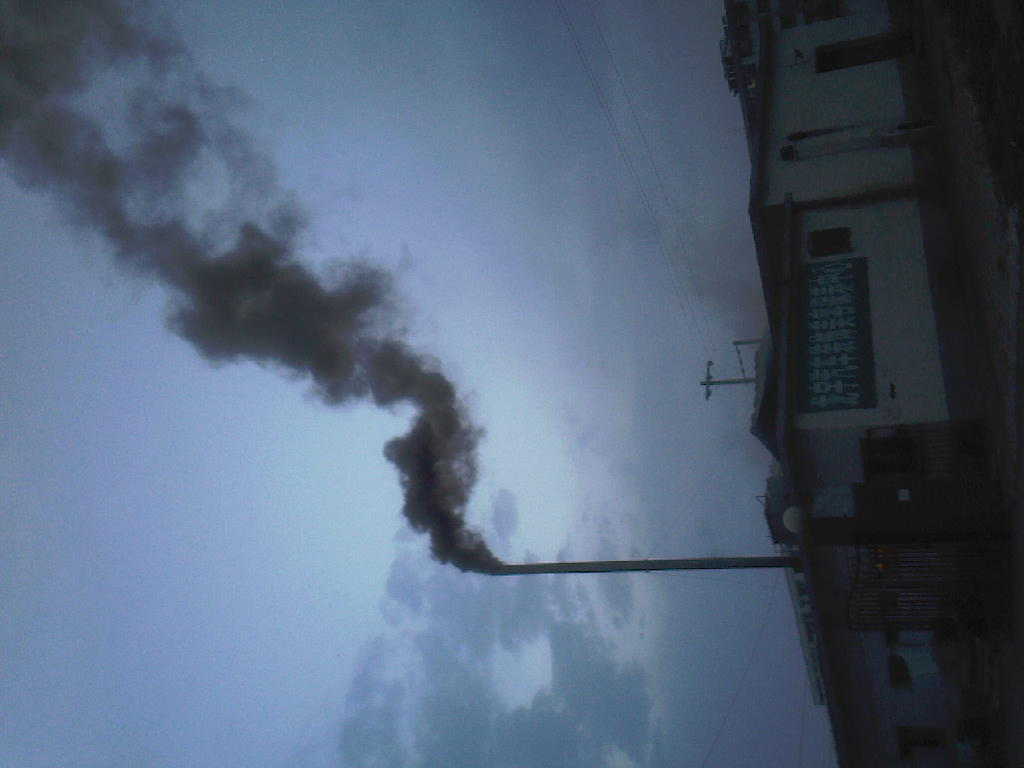dust: (384, 351, 510, 602)
